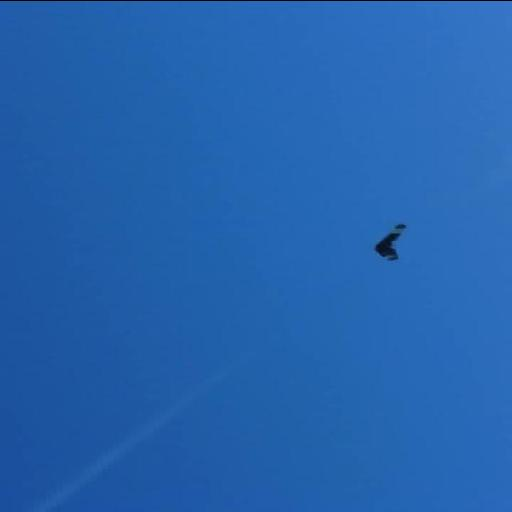uav: (366, 217, 422, 261)
